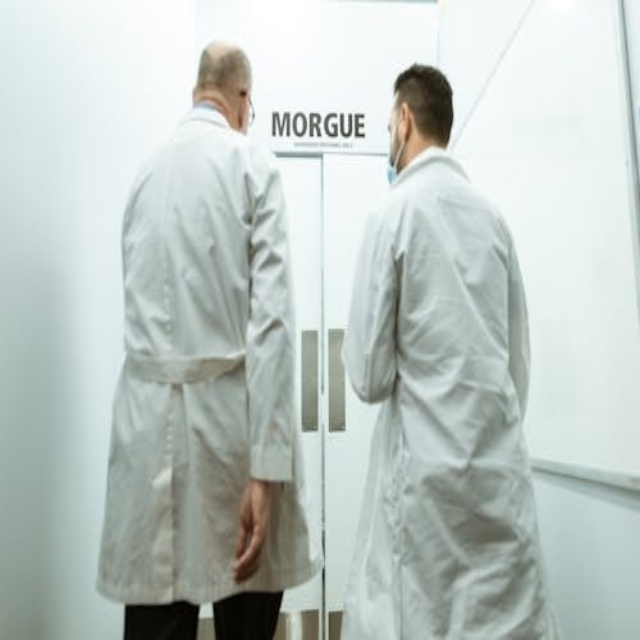Gafas: (242, 92, 255, 127)
Mascara: (388, 109, 408, 184)
Sin_guantes: (221, 469, 278, 582)
